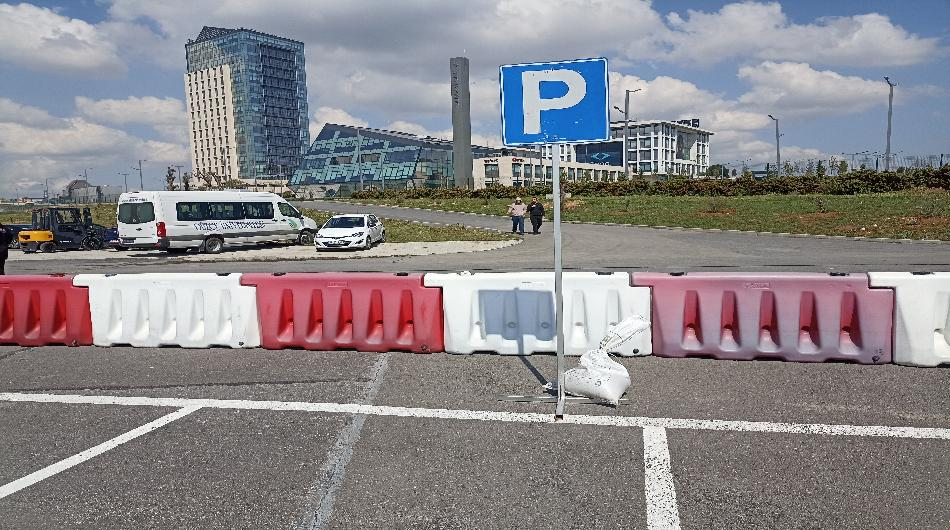park: (496, 51, 613, 148)
